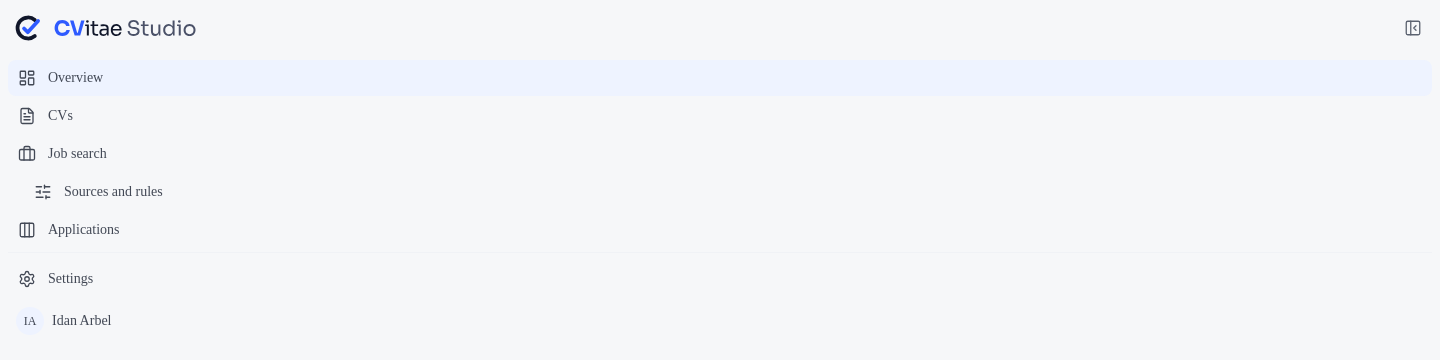
Test: SidebarNav › offers settings, terms, homepage and sign out in the user menu
Click the button with aria-label "account menu".
click(82, 320)  # box [8,299,1432,343]
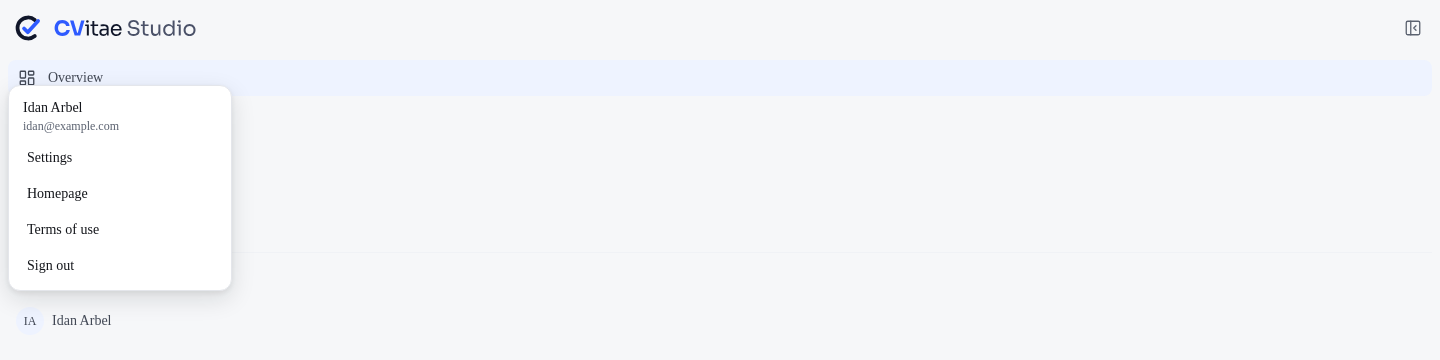
expect the menu item "Sign out" is shown: met, box [27,258,74,273]
expect the menu item "Homepage" is shown: met, box [27,186,88,201]
